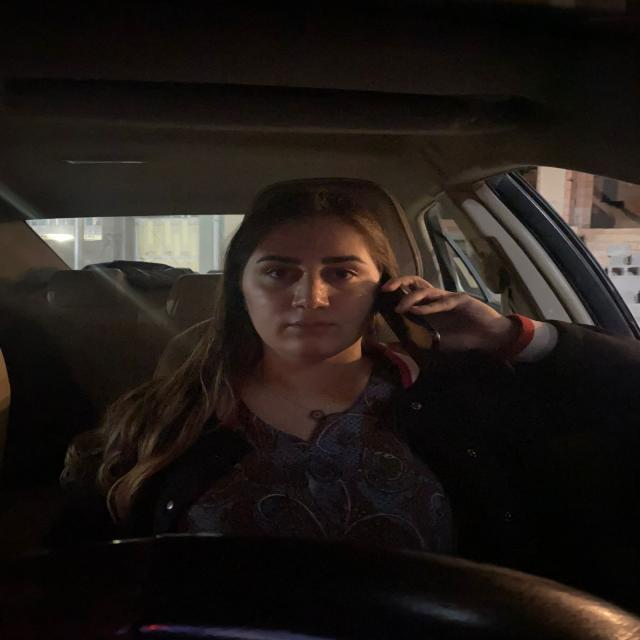mobile: (372, 272, 438, 400)
person: (224, 175, 405, 356)
